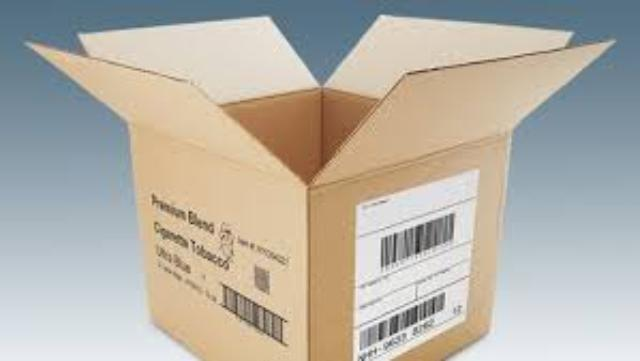cardboard paper: (28, 13, 608, 355)
